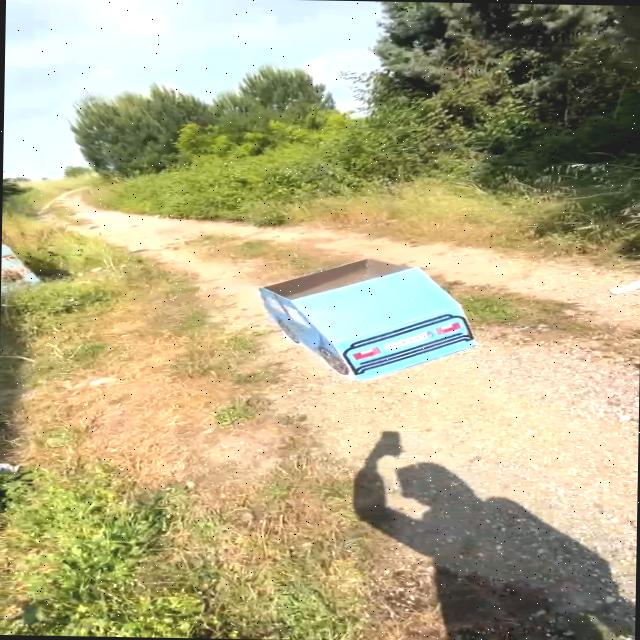blue_car: (236, 252, 506, 389)
